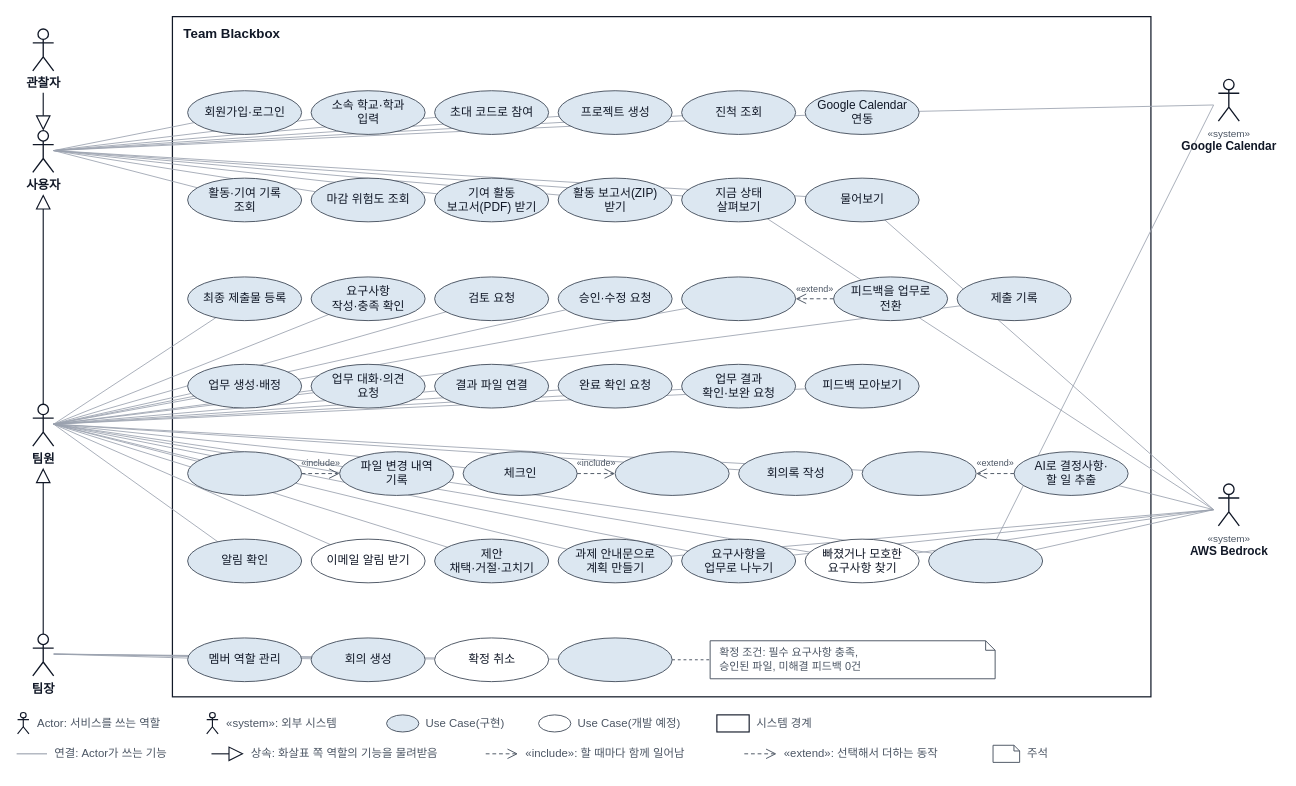
Some shapes in this 1296 by 786 pixel diagram are drawn without their labels. The centre of each missing label's shape, as x and y in pixels:
AI 회의 시간 추천: (x=985, y=560)
최종본 확정: (x=614, y=659)
출석 판정: (x=671, y=473)
파일 업로드: (x=244, y=473)
피드백 작성·해결: (x=738, y=298)
회의 결과 정리: (x=918, y=473)
